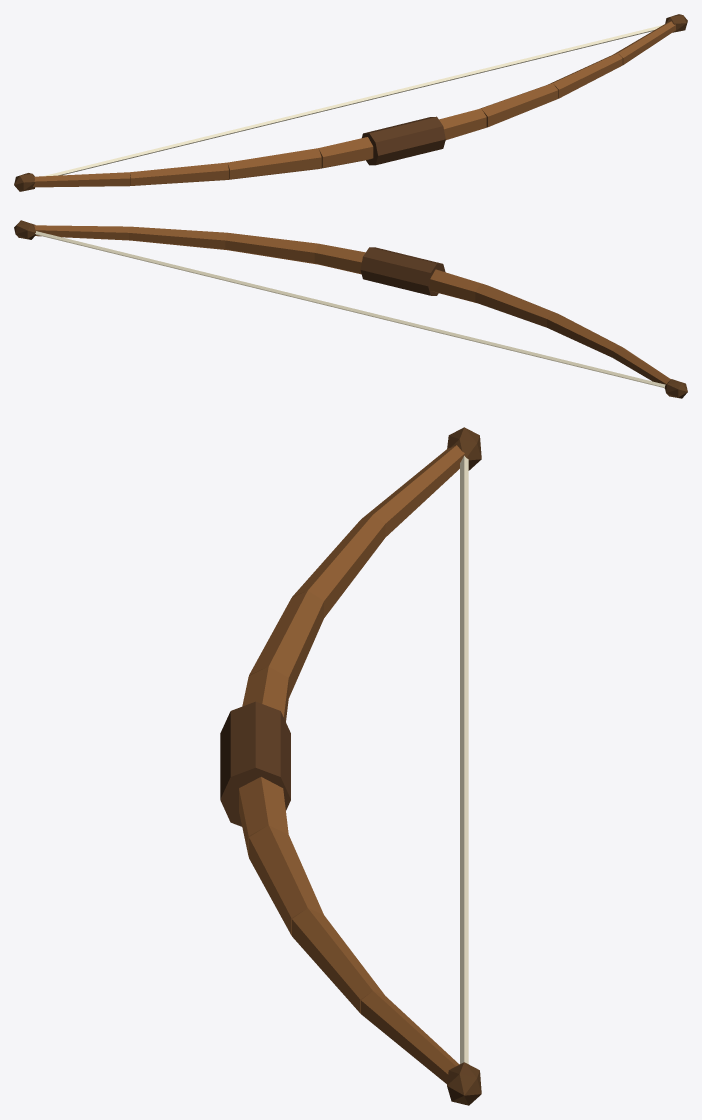
The model's file is drop_oak_longbow.glb.
3 views of the same model, one above another, from view 1: azimuth 30°, elevation 25°; view 2: azimuth 150°, elevation 25°; view 3: azimuth 270°, elevation 25° (orthographic). The views are drawn at different scales.
Parts seen in each view (by area): view 1: drop_oak_longbow; view 2: drop_oak_longbow; view 3: drop_oak_longbow.
Boxes of the visible parts, box(x1,y1,x2,y2) form: drop_oak_longbow: box(14, 14, 687, 191); drop_oak_longbow: box(14, 220, 687, 398); drop_oak_longbow: box(220, 427, 481, 1105).
Bounding box in the file's own units: 1.19 × 0.0544 × 0.2006.
